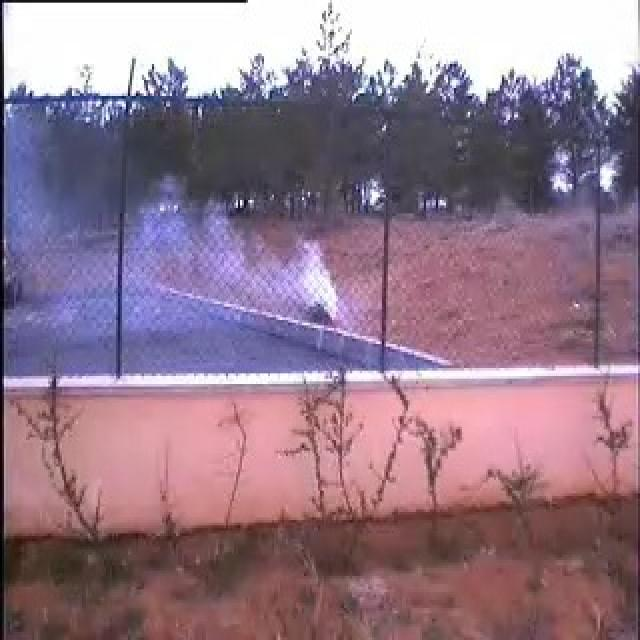smoke: (48, 199, 336, 373)
